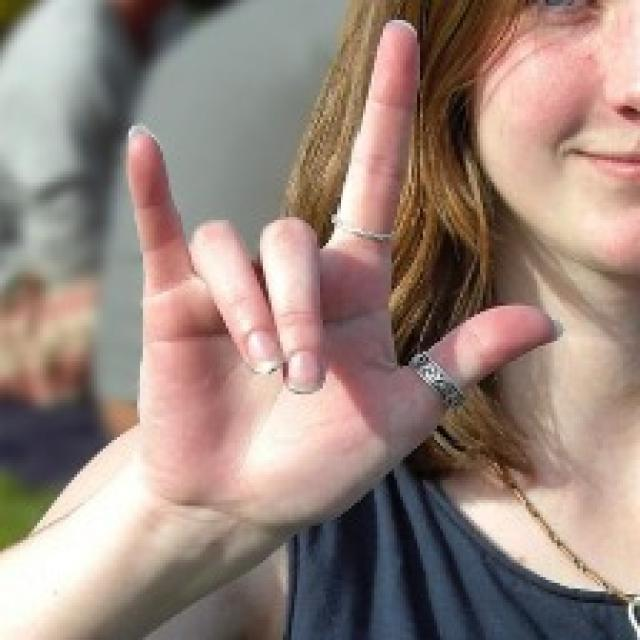love: (123, 19, 568, 524)
